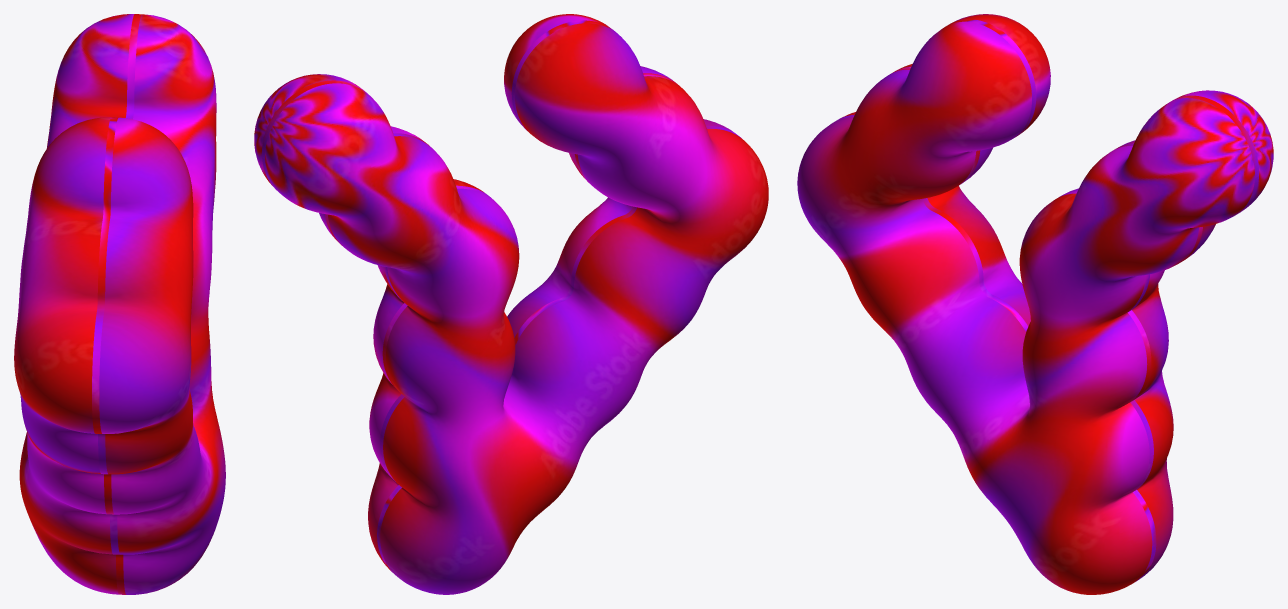
3 renders of one model, left to right at view 1: azimuth 30°, elevation 25°; view 2: azimuth 150°, elevation 25°; view 3: azimuth 270°, elevation 25°, orthographic. The views are drawn at different scales.
Visible parts, largest first — view 1: H; view 2: H; view 3: H.
Part boxes in pixels (x1,y1,x2,y2): H: (14, 14, 225, 594); H: (254, 14, 768, 594); H: (797, 14, 1273, 594).
Bounding box in the file's own units: 0.2086 × 0.316 × 0.2581.
Materials: 1 (1 with a texture image).
